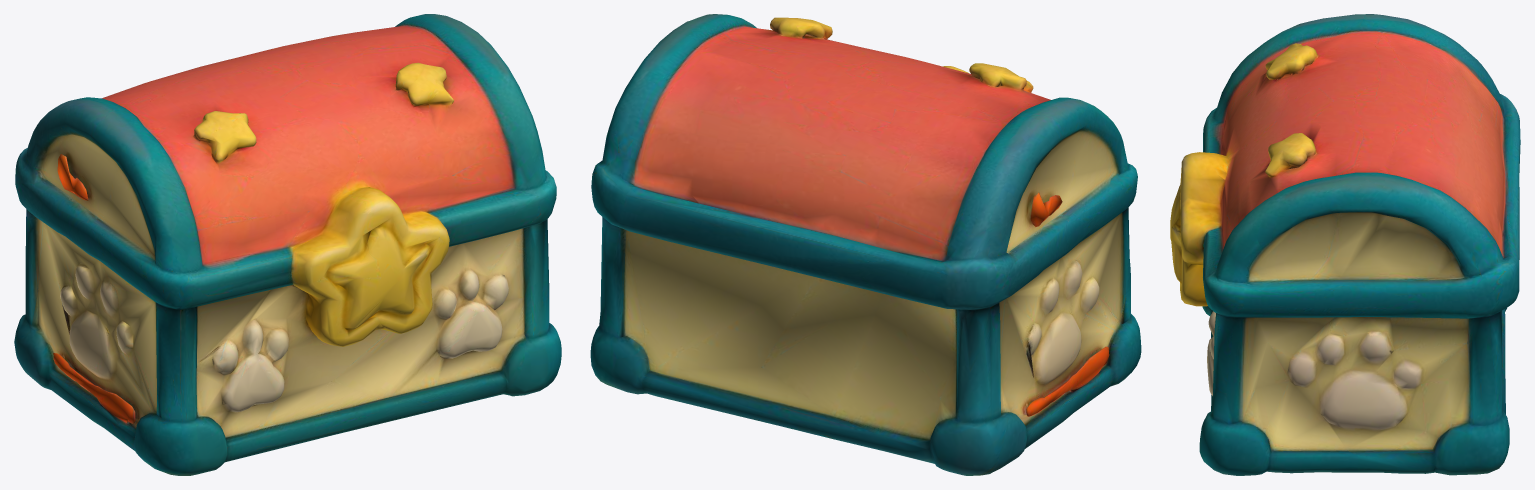
The model's file is item-pickup-box.glb.
3 renders of one model, left to right at view 1: azimuth 30°, elevation 25°; view 2: azimuth 150°, elevation 25°; view 3: azimuth 270°, elevation 25°, orthographic. The views are drawn at different scales.
Parts seen in each view (by area): view 1: Mesh_0; view 2: Mesh_0; view 3: Mesh_0.
Part boxes in pixels (<box>): Mesh_0: <box>14,14,561,475</box>; Mesh_0: <box>590,14,1141,475</box>; Mesh_0: <box>1170,14,1520,475</box>.
Size of the model in its own units: 2 by 1.47 by 1.57.
Materials: 1 (1 with a texture image).
